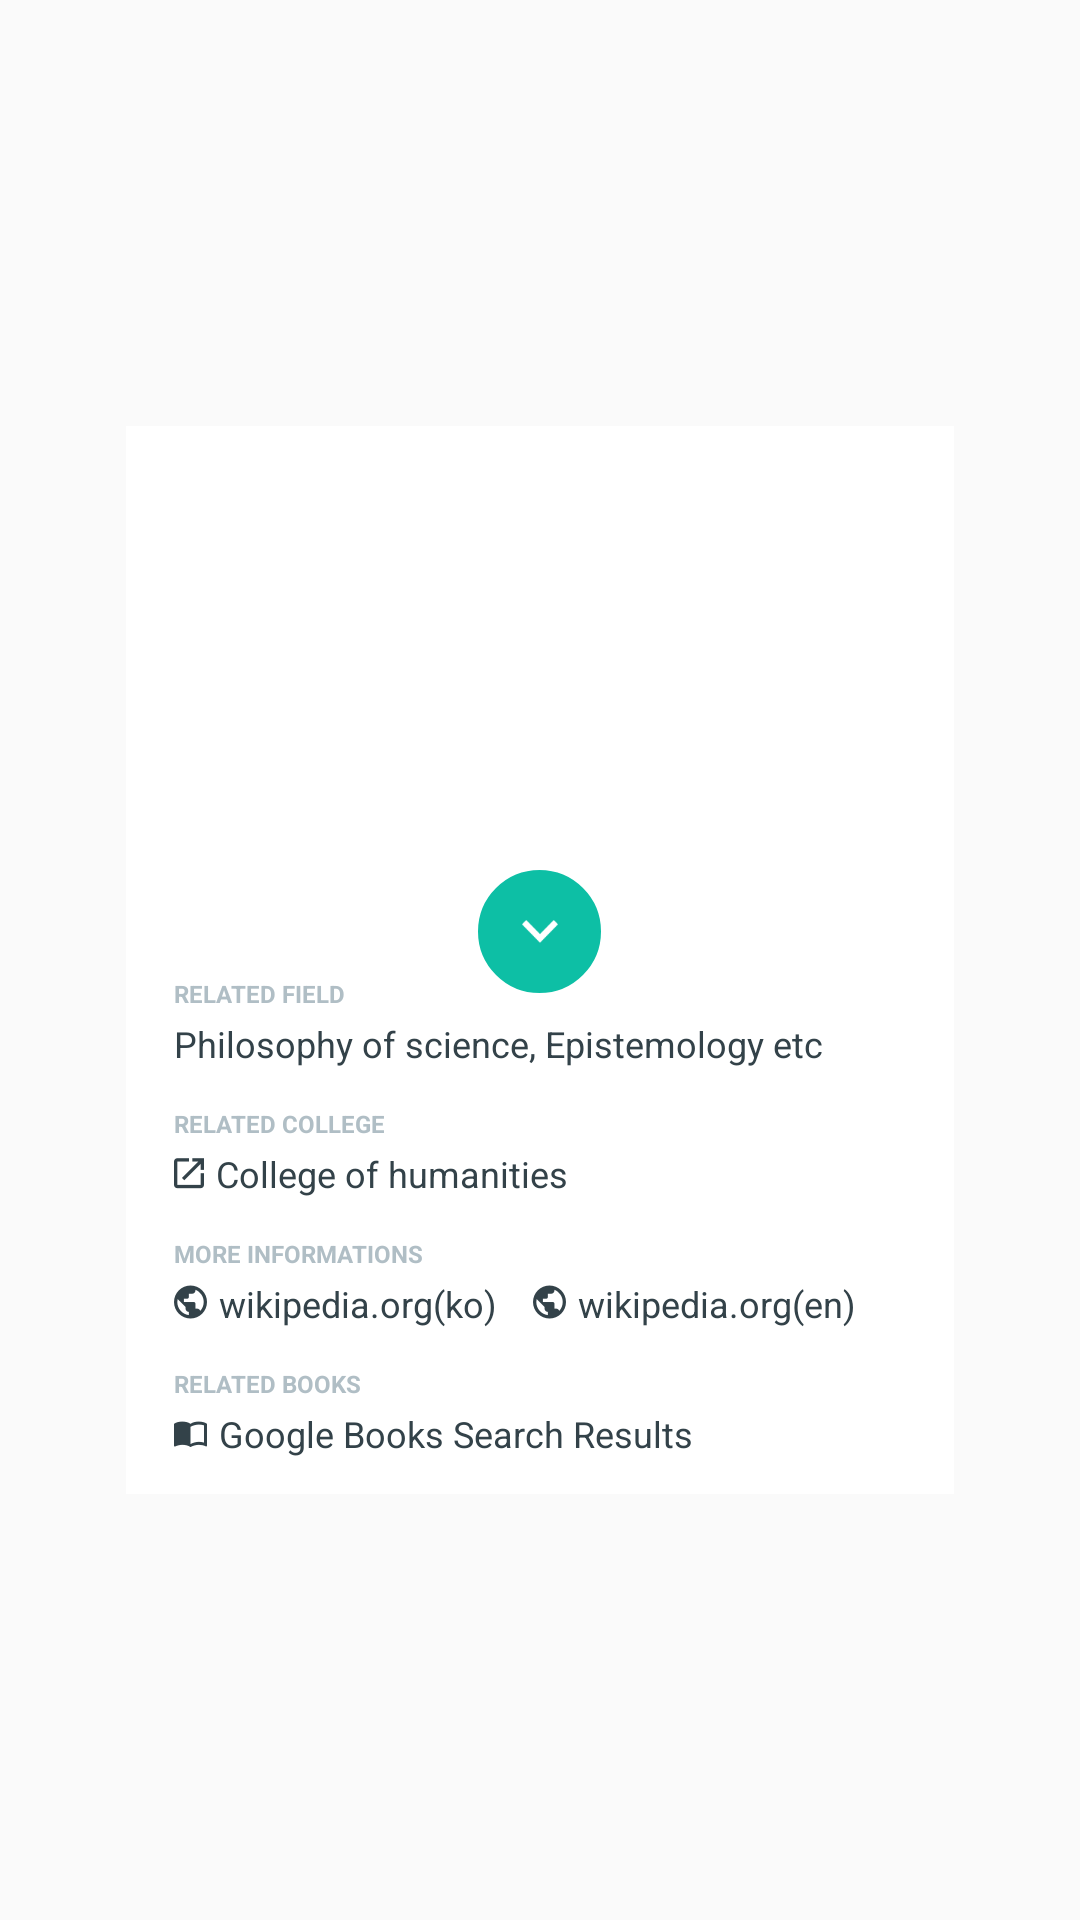

Named icons in this screenshot (1080px×1920px) and their bounding boxes, [x1, y1, x2, y2]:
fab arrow: [478, 870, 601, 993]
internet: [174, 1285, 207, 1319], [533, 1285, 566, 1319]
link: [174, 1158, 204, 1189]
